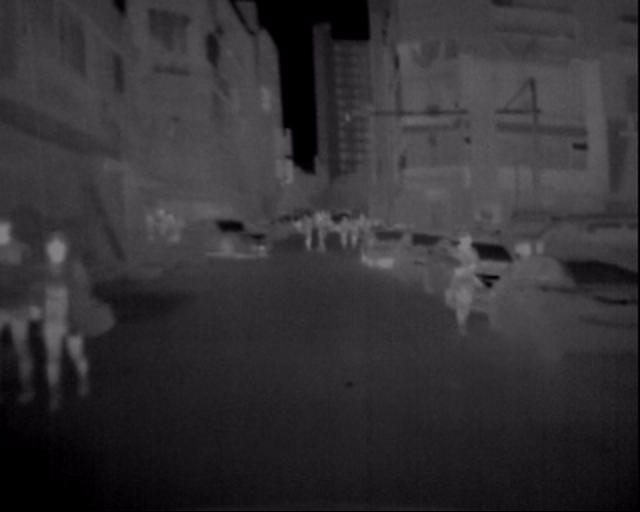person: (26, 223, 90, 459), (0, 202, 40, 442), (442, 210, 490, 344), (339, 207, 366, 257), (312, 206, 336, 255), (300, 202, 320, 259)
